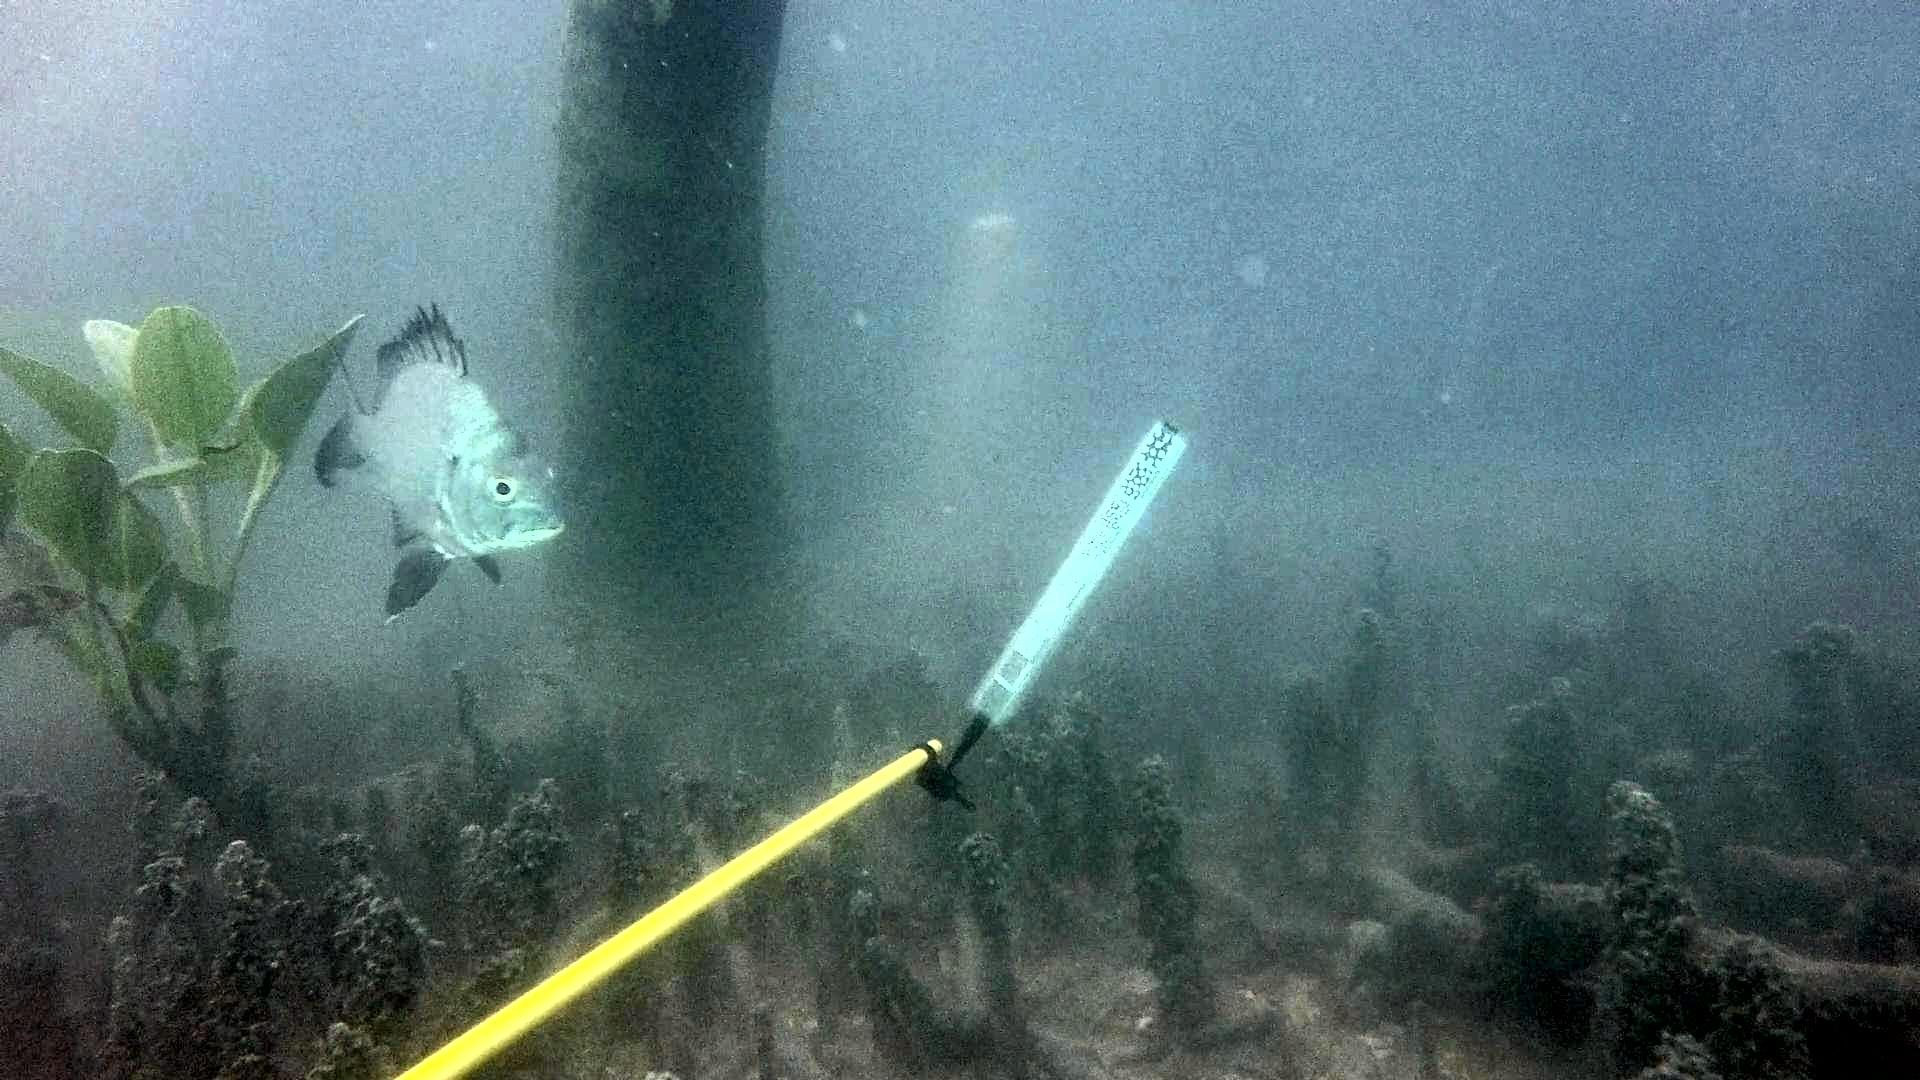acanthopagrus palmaris: (301, 290, 580, 624)
